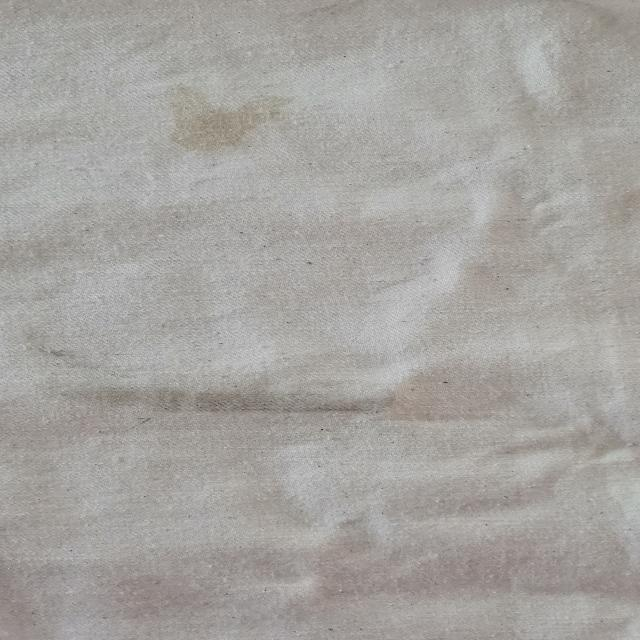taaaches: (44, 374, 420, 426), (158, 78, 304, 152)
